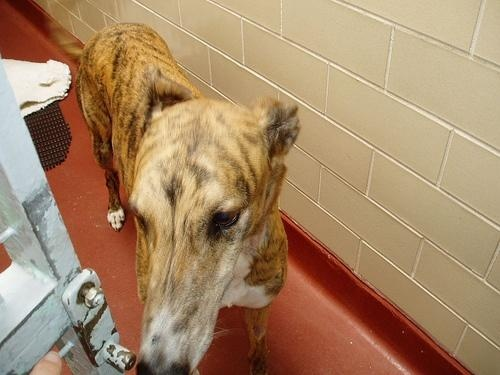dog: (73, 23, 302, 375)
